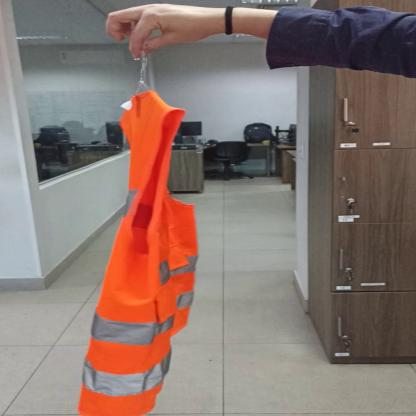colete: (77, 95, 204, 415)
